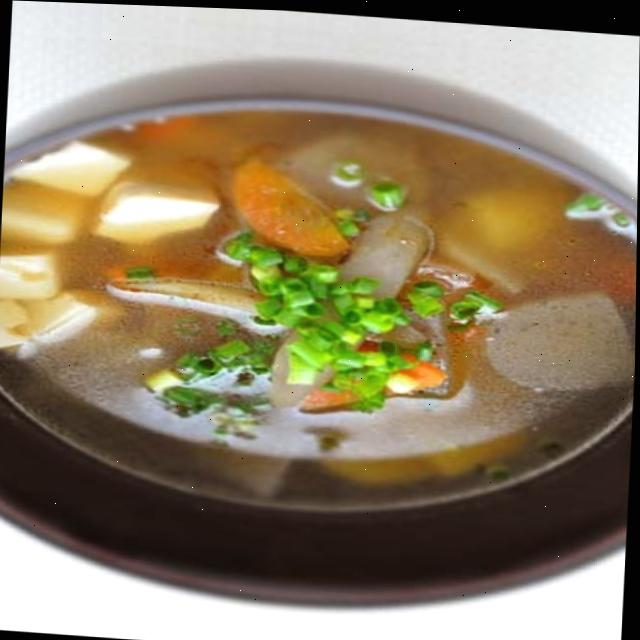蔬菜料理: (0, 48, 639, 640)
